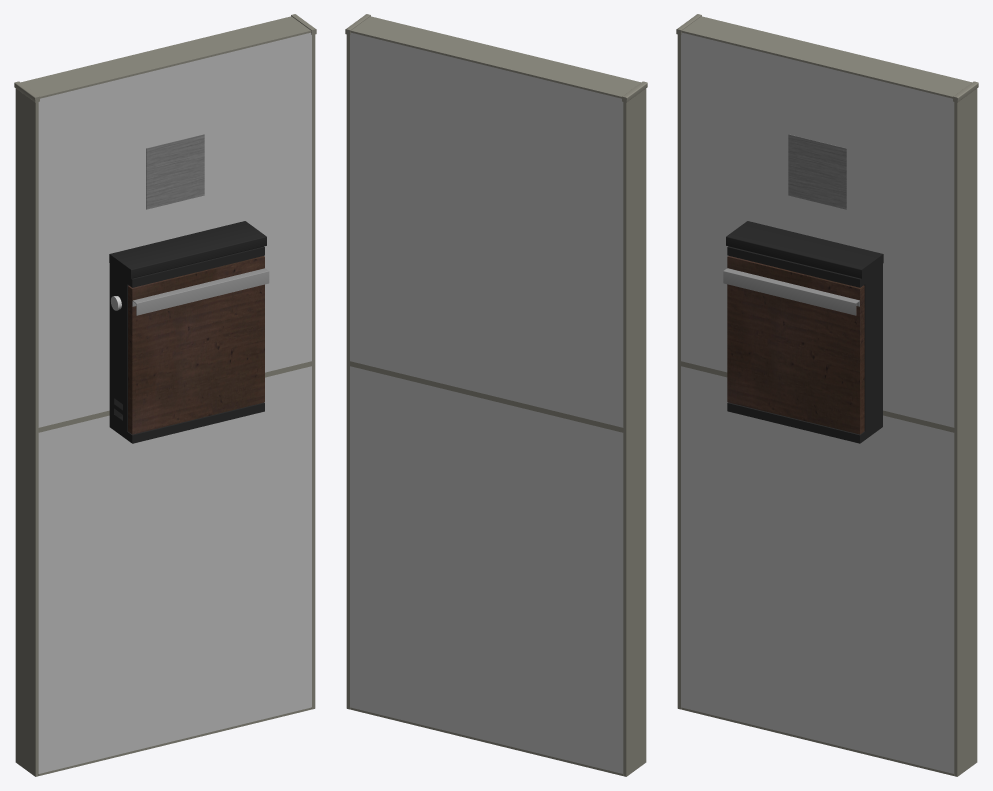
File: abunitgatepost1h1600.fbx
3 renders of one model, left to right at view 1: azimuth 30°, elevation 25°; view 2: azimuth 150°, elevation 25°; view 3: azimuth 330°, elevation 25°, orthographic.
Visible parts, largest first — view 1: abunitmonchu-1gata_h1600; view 2: abunitmonchu-1gata_h1600; view 3: abunitmonchu-1gata_h1600.
Part boxes in pixels (x1=…): abunitmonchu-1gata_h1600: x1=14, y1=14, x2=316, y2=776; abunitmonchu-1gata_h1600: x1=345, y1=14, x2=647, y2=776; abunitmonchu-1gata_h1600: x1=676, y1=14, x2=978, y2=776.
Bounding box in the file's own units: 70.9 × 164 × 20.94.
